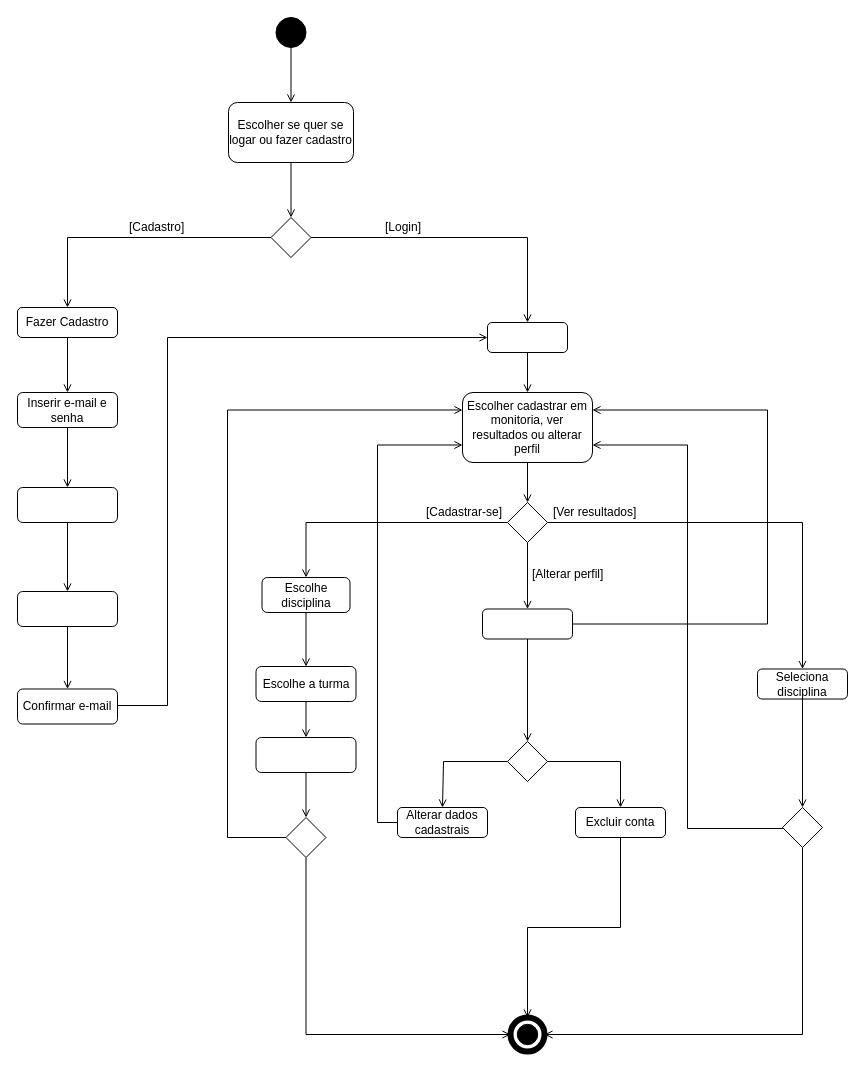
Image size: 865x1072. Some labels were removed from this diagram. Each missing label, with the centre of its shape:
Alterar perfil: the point at 527,623
Escolhe prioridade: the point at 305,754
Fazer Login: the point at 527,337
Inserir dados pessoais: the point at 67,504
Inserir PDF do quadro resumo: the point at 67,608
